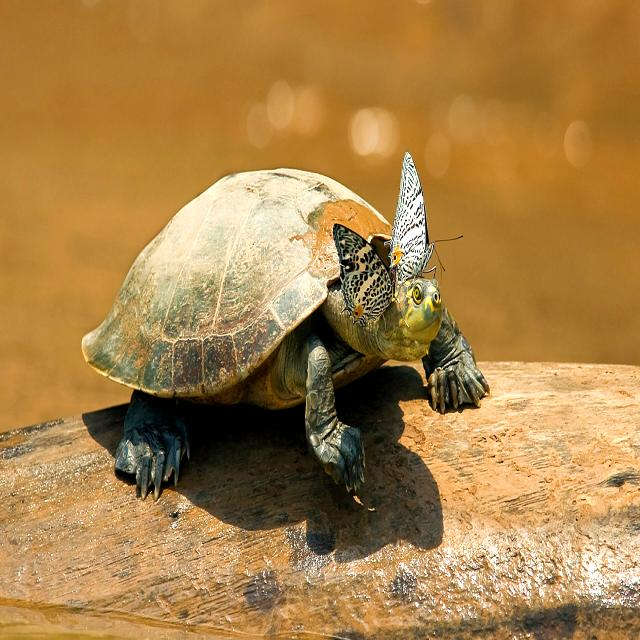Sea turtle: (67, 109, 520, 524)
